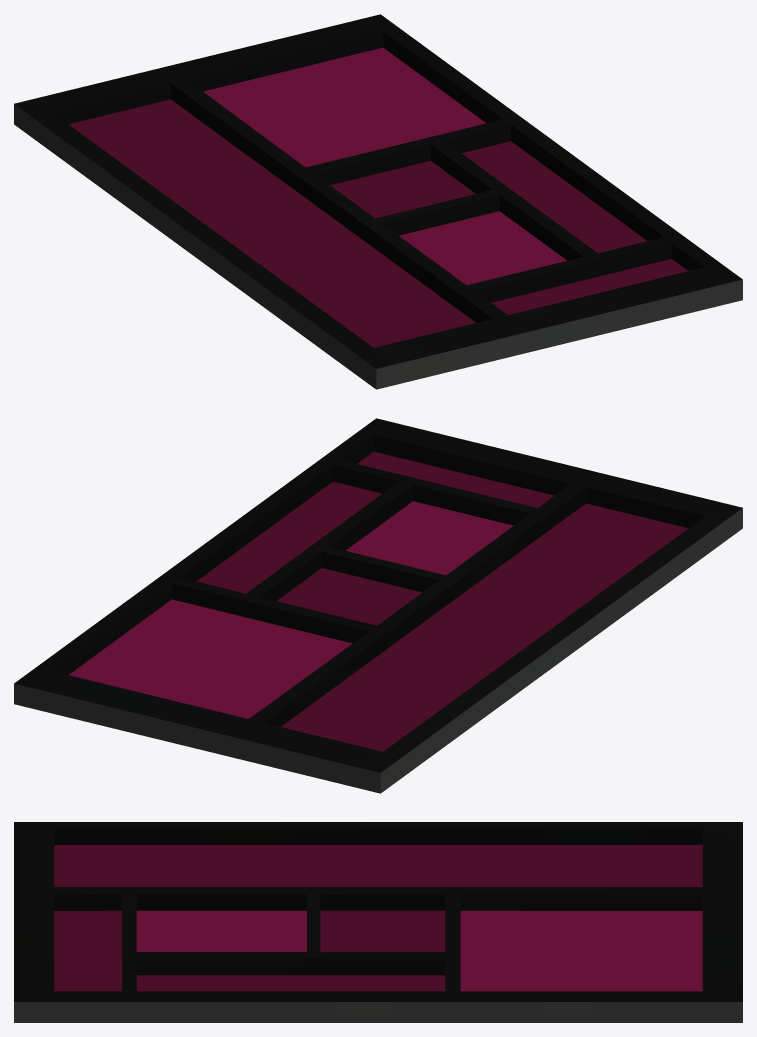
The model's file is Level 2, main tray.fbx.
The picture shows the model from 3 angles, top to bottom: view 1: azimuth 30°, elevation 25°; view 2: azimuth 150°, elevation 25°; view 3: azimuth 270°, elevation 25°; orthographic projection.
Parts seen in each view (by area): view 1: Main board, Main board.005, Main board.004, Main board border, Main board.002, Main board.001, Main board.003, Main board.006; view 2: Main board, Main board.005, Main board.004, Main board border, Main board.002, Main board.001, Main board.003, Main board.006; view 3: Main board, Main board.005, Main board.004, Main board border, Main board.002, Main board.006, Main board.003, Main board.001.
Part boxes in pixels (left/top/right/bottom): Main board: left=14, top=14, right=742, bottom=368; Main board.005: left=69, top=99, right=475, bottom=347; Main board.004: left=203, top=47, right=485, bottom=167; Main board border: left=14, top=104, right=742, bottom=389; Main board.002: left=399, top=211, right=566, bottom=285; Main board.001: left=461, top=141, right=647, bottom=252; Main board.003: left=330, top=160, right=475, bottom=218; Main board.006: left=491, top=259, right=687, bottom=314; Main board: left=14, top=418, right=742, bottom=772; Main board.005: left=281, top=503, right=687, bottom=751; Main board.004: left=69, top=599, right=352, bottom=718; Main board border: left=14, top=508, right=742, bottom=793; Main board.002: left=345, top=501, right=513, bottom=575; Main board.001: left=196, top=481, right=381, bottom=593; Main board.003: left=277, top=568, right=422, bottom=625; Main board.006: left=357, top=451, right=553, bottom=507; Main board: left=14, top=822, right=742, bottom=1001; Main board.005: left=54, top=845, right=702, bottom=886; Main board.004: left=460, top=910, right=702, bottom=991; Main board border: left=14, top=1002, right=742, bottom=1022; Main board.002: left=136, top=910, right=306, bottom=951; Main board.006: left=54, top=910, right=121, bottom=991; Main board.003: left=320, top=910, right=445, bottom=951; Main board.001: left=136, top=975, right=445, bottom=991.
Size of the model in its own units: 572 by 33.91 by 979.
Materials: 1 (1 with a texture image).
